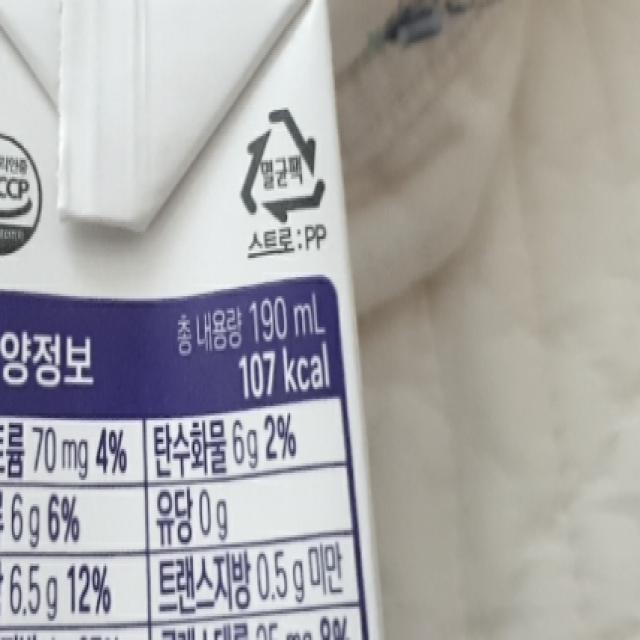SterilizedPack: (237, 96, 328, 226)
